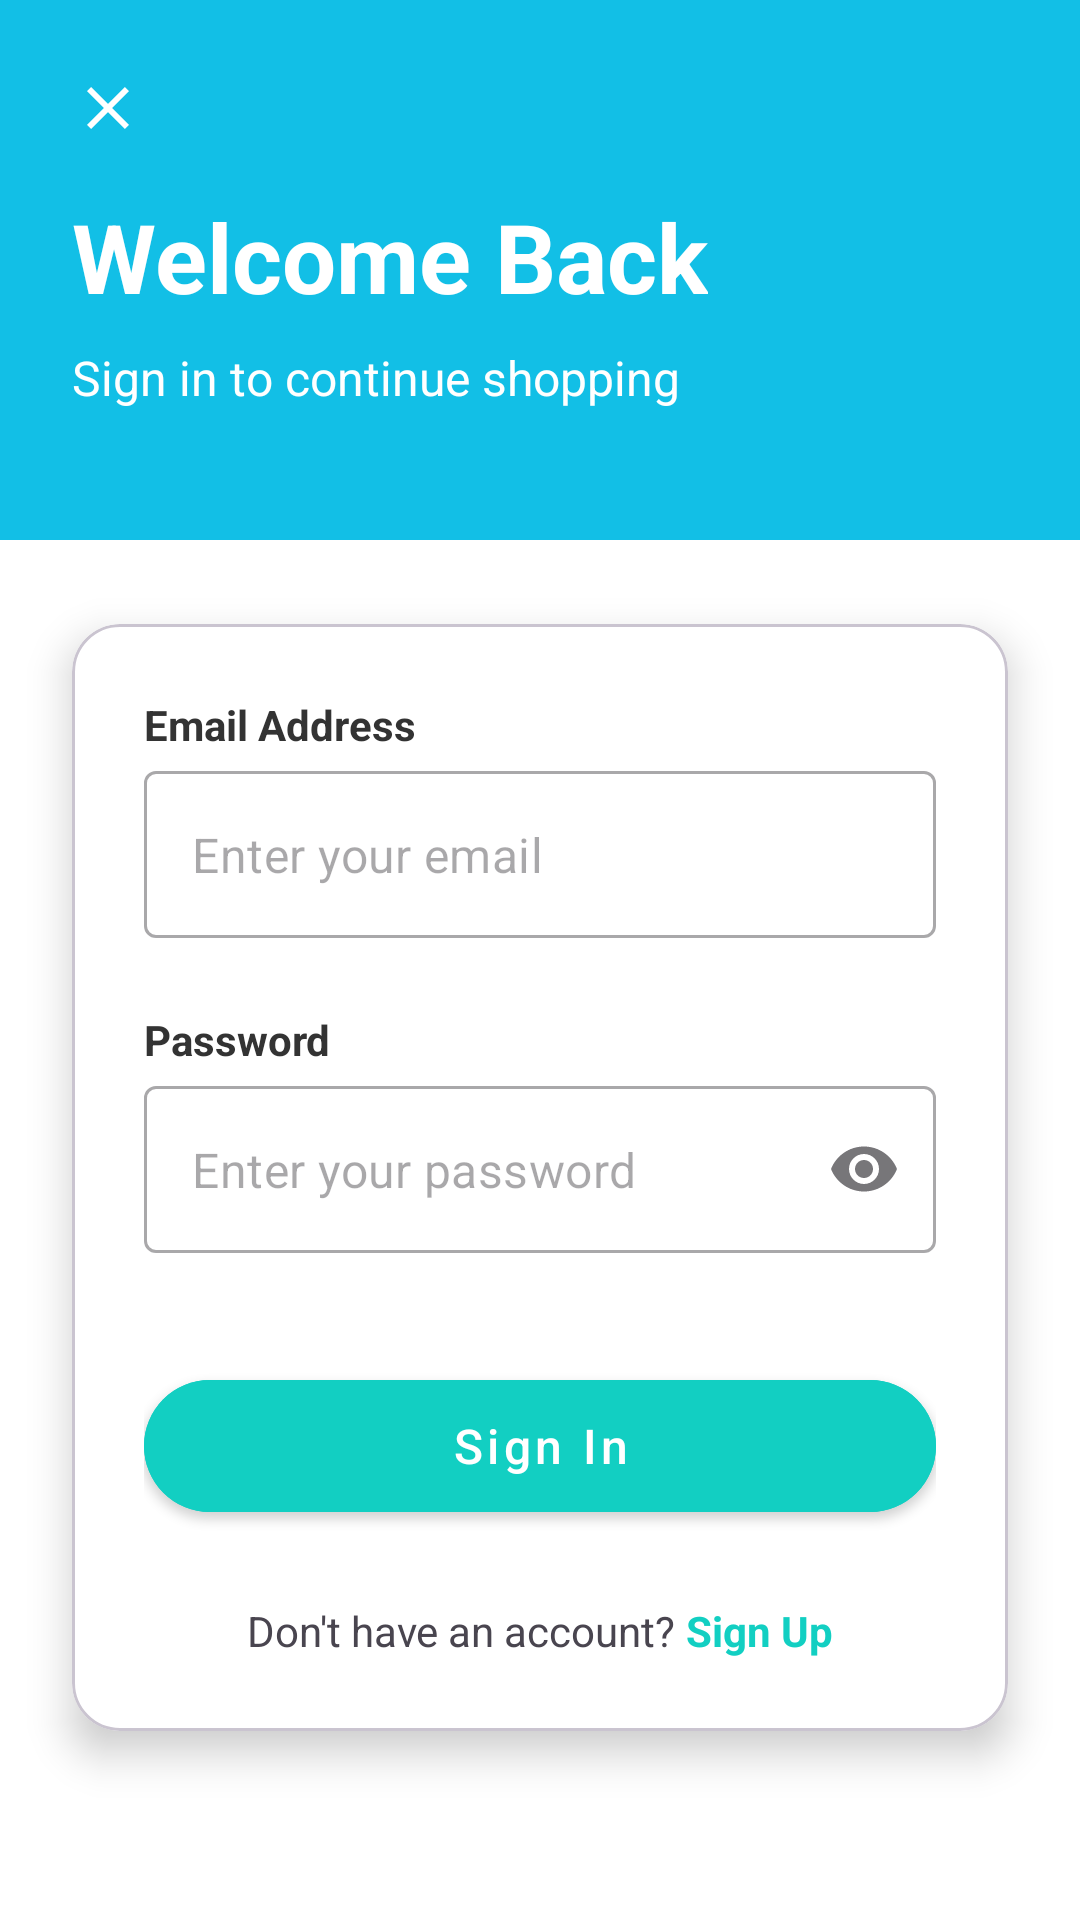

Locate icon controls on the screen. Image size 1080×1920, boxes as rect(x1, y1, x2, y2).
Close: rect(87, 87, 129, 129)
